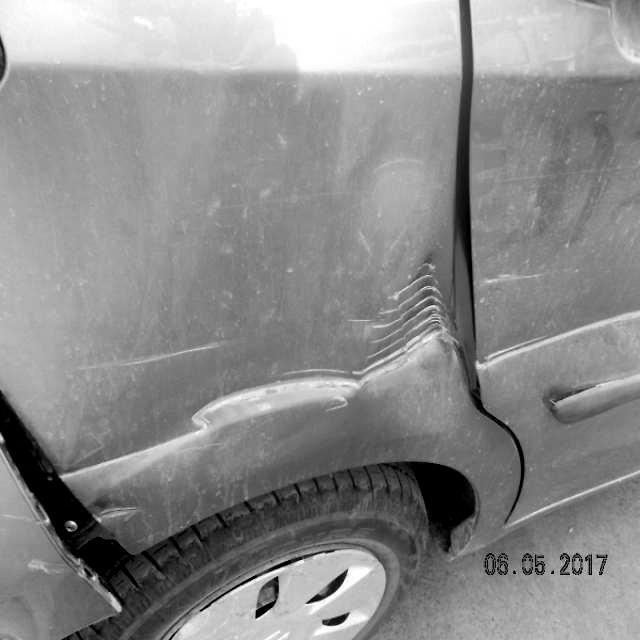quaterpanel-dent: (34, 147, 472, 633)
